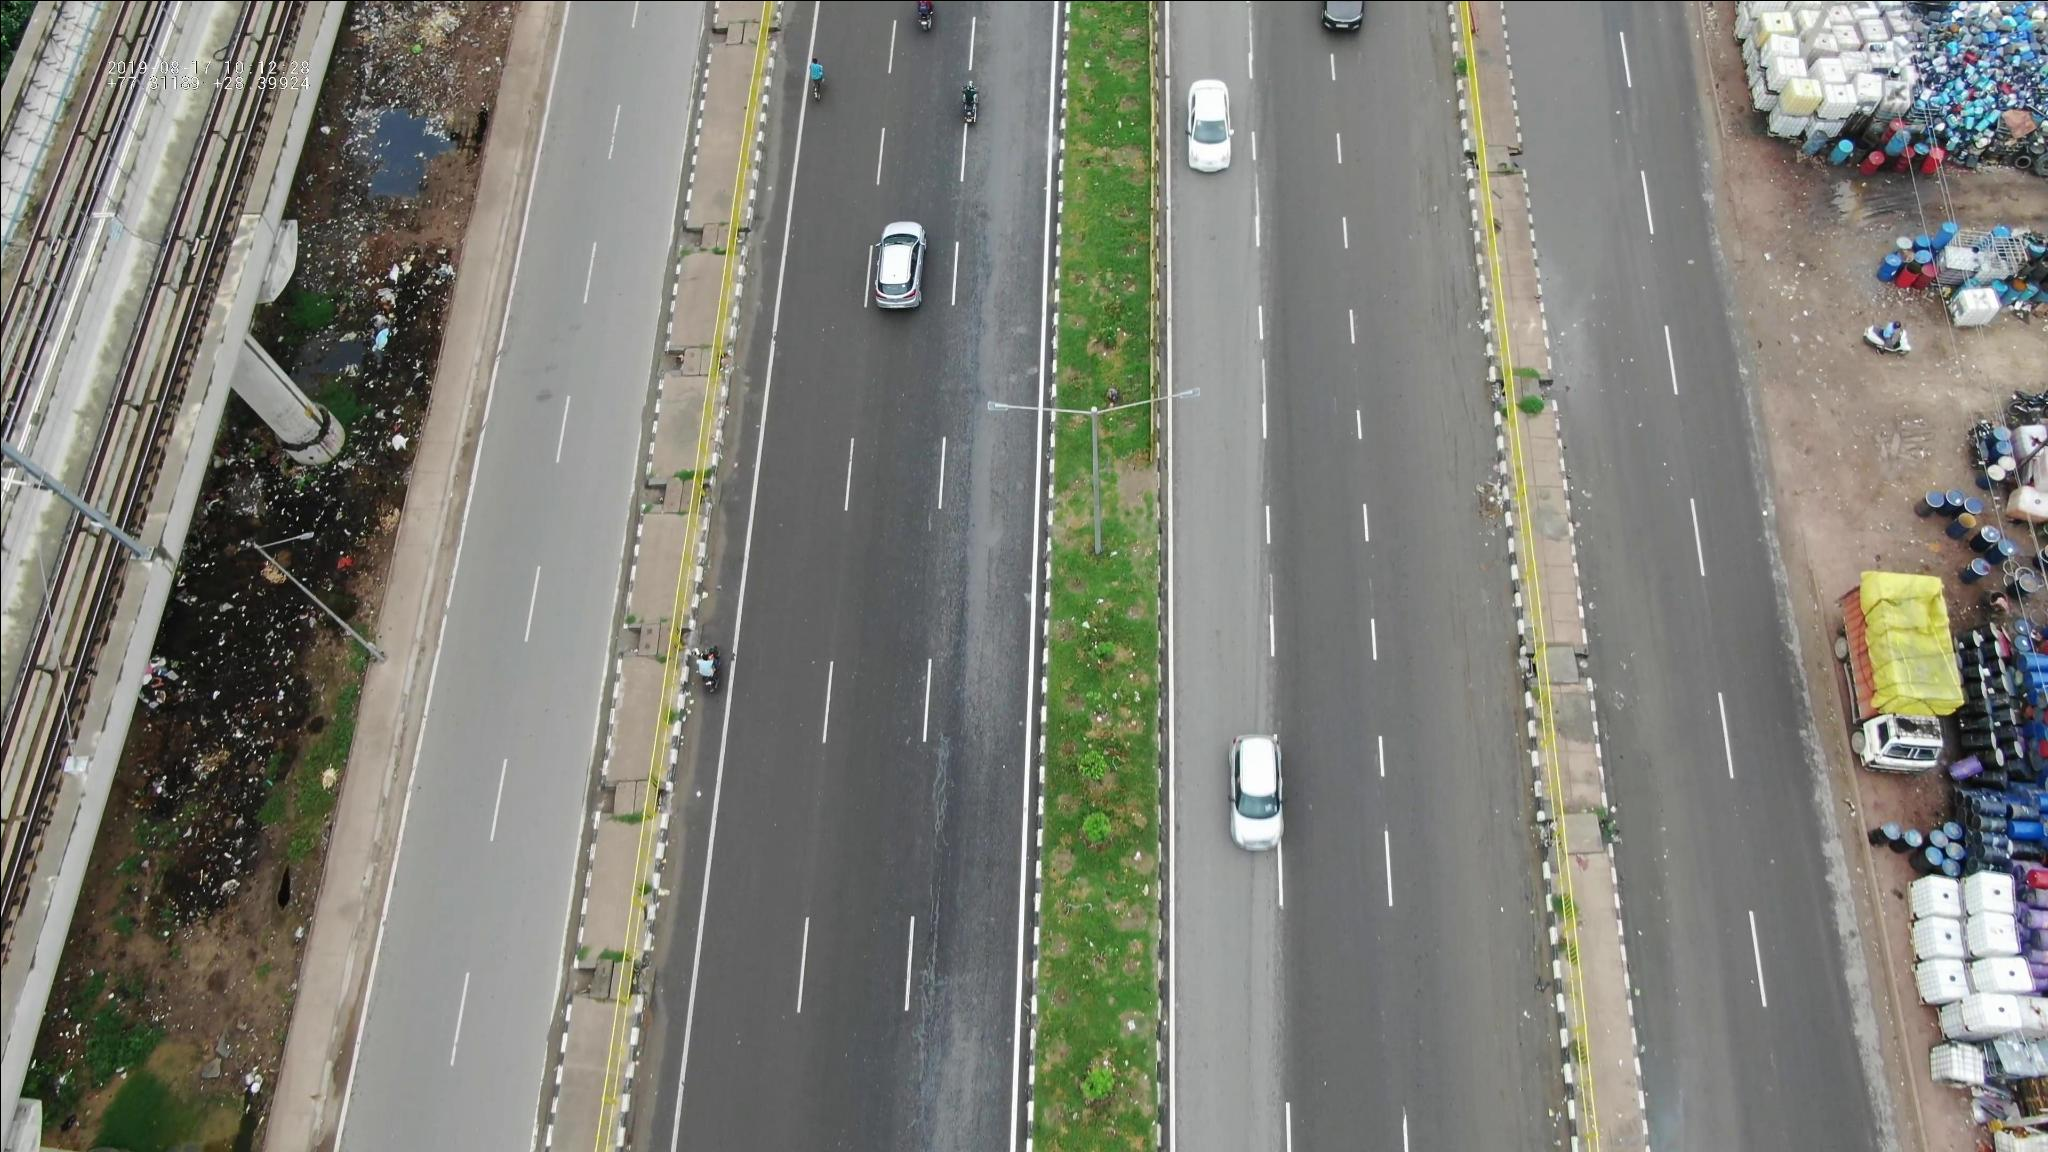Waterlogging: (1591, 720, 1685, 1073)
